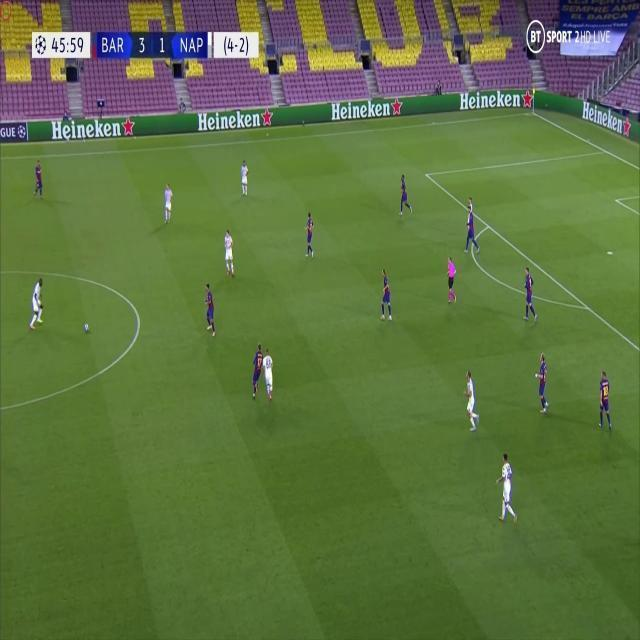ball: (84, 322, 90, 335)
player: (494, 450, 519, 528), (377, 264, 397, 325), (463, 364, 480, 434), (521, 265, 540, 327), (597, 367, 614, 435), (535, 347, 552, 415), (28, 271, 45, 331), (261, 348, 276, 403), (464, 206, 479, 255), (302, 210, 317, 259), (398, 170, 413, 218), (222, 228, 236, 279), (204, 281, 216, 339), (32, 155, 46, 201), (251, 342, 262, 399), (162, 180, 175, 228), (240, 158, 251, 198), (465, 196, 475, 237)
referee: (443, 253, 458, 305)
